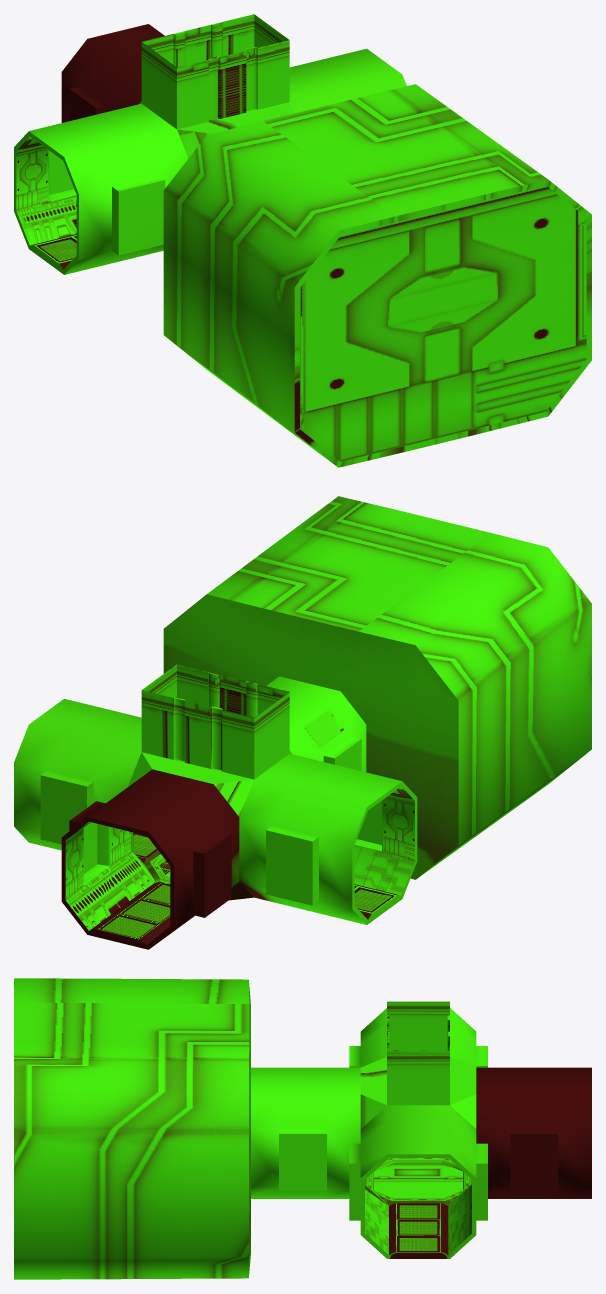
Rendered from scifi-scene.fbx.
3 views of the same model, one above another, from view 1: azimuth 30°, elevation 25°; view 2: azimuth 150°, elevation 25°; view 3: azimuth 270°, elevation 25° (orthographic). The views are drawn at different scales.
Parts seen in each view (by area): view 1: experimental compartment, main cabin; view 2: experimental compartment, main cabin; view 3: experimental compartment, main cabin.
Part boxes in pixels (x1,y1,x2,y2): experimental compartment: (163, 84, 591, 467); main cabin: (14, 14, 406, 274); experimental compartment: (163, 496, 591, 879); main cabin: (14, 664, 417, 949); experimental compartment: (14, 978, 250, 1279); main cabin: (251, 1001, 591, 1258).
Bounding box in the file's own units: 1500 × 1009 × 2500.
